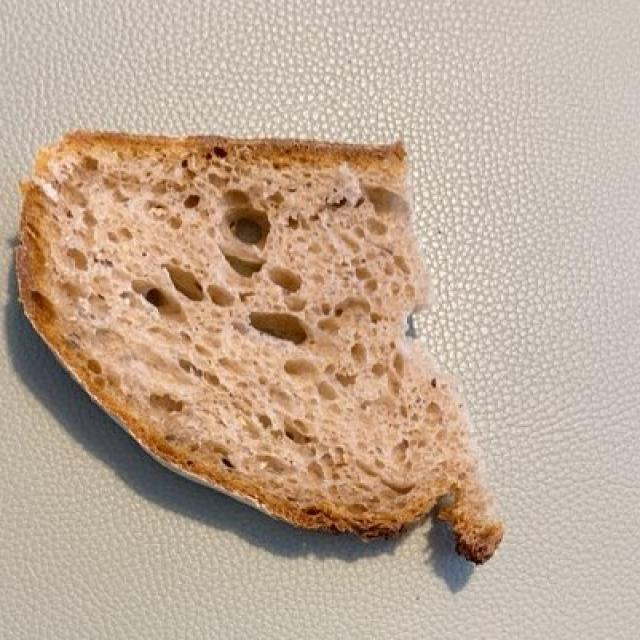bread-sourdough: (25, 137, 504, 553)
